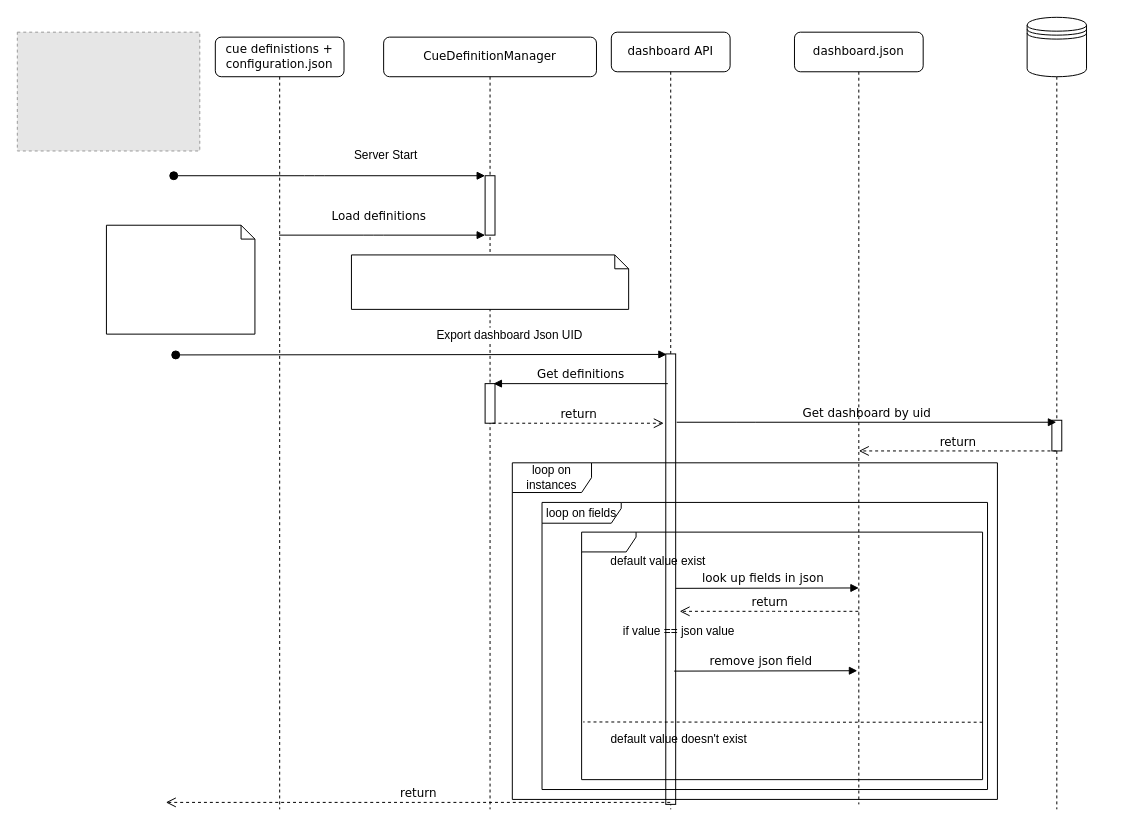
Some shapes in this 1124 by 830 pixel diagram are drawn without their labels. Grey dashed boxes stand in for pictures. Here are the shapes that lost their labels. From the top down, the centre of each, then its label:
At (180,279): "cue definitions we have - panels - targets - variables - transformations".
At (489,281): "dashboardInstance map[jsonpath]map[{keyfiled, value}] cueinstance".
At (782,655): "alt".
